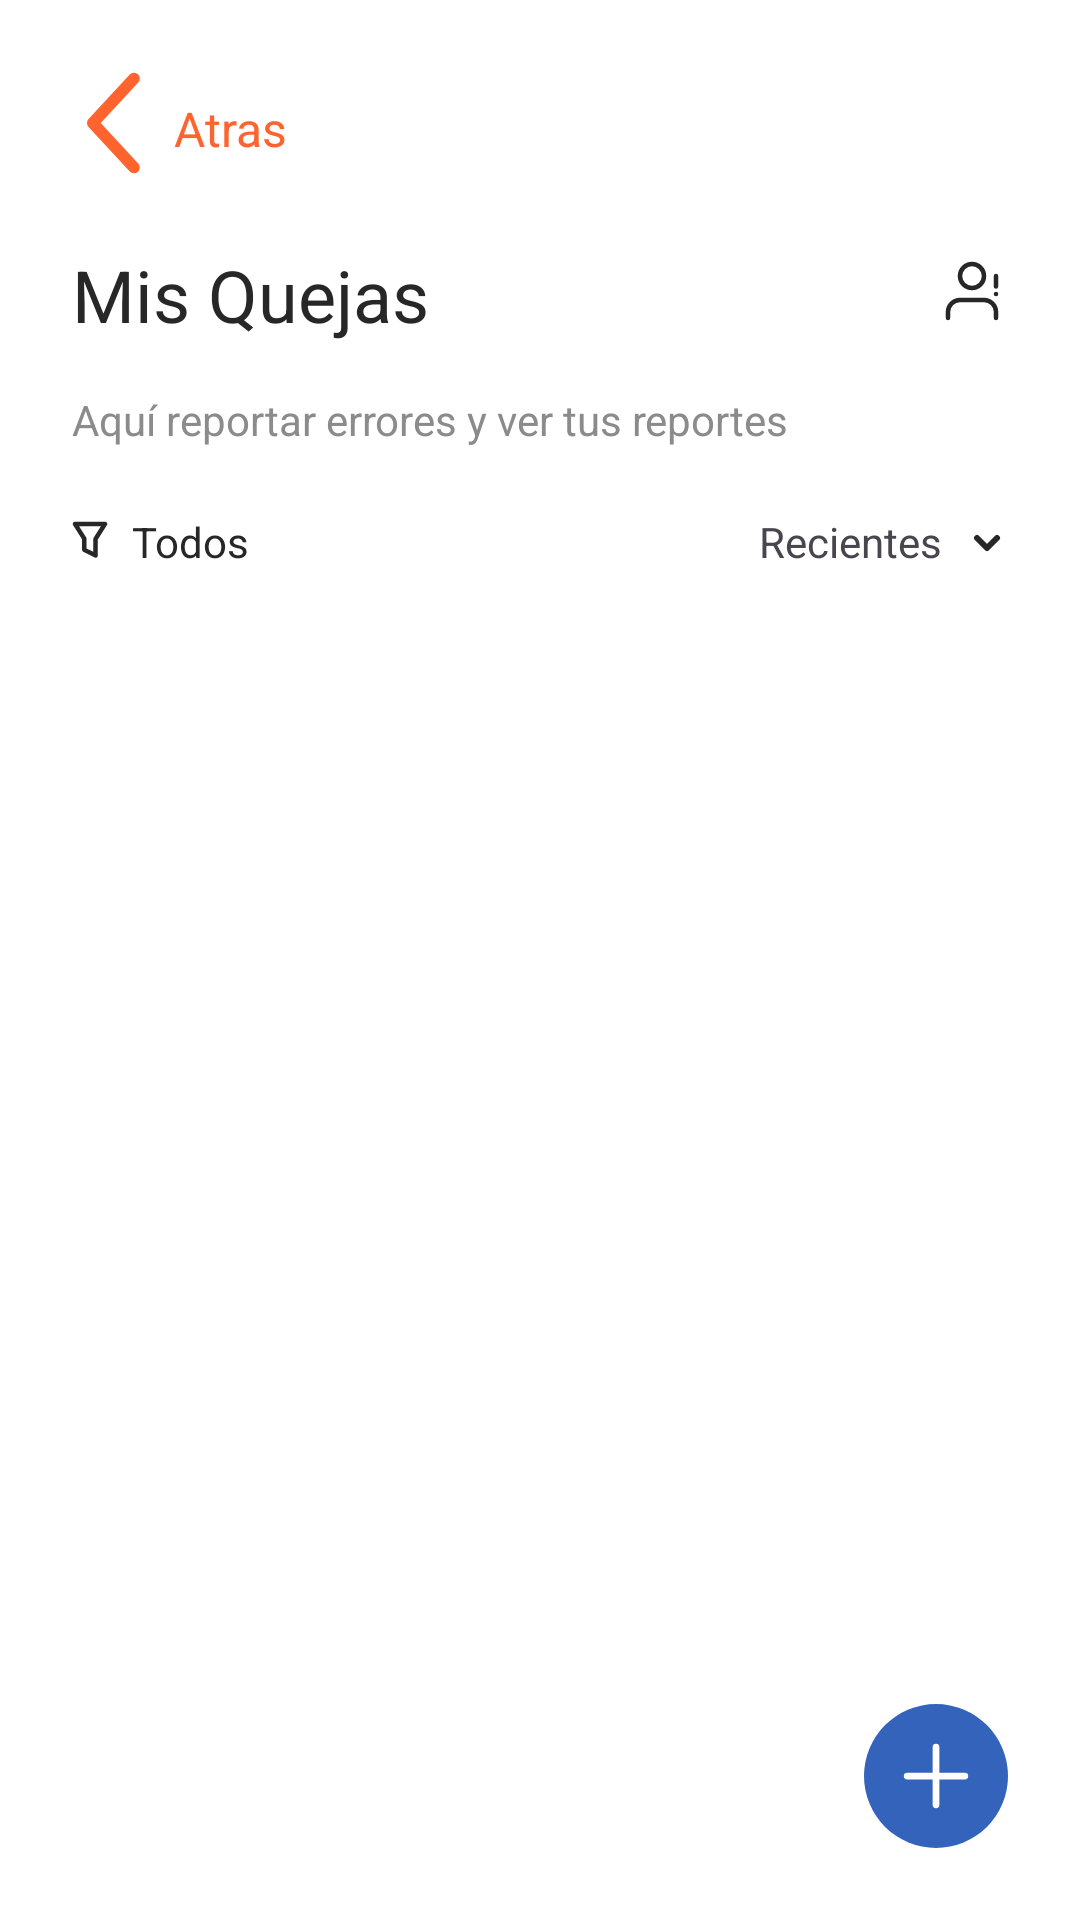

Icon click points for this 1080×1920 phone screenshot, format (x,y):
gio add queja: (936,1776)
gio back arrow: (113,123)
gio filter: (90,539)
gio user warning: (972,291)
